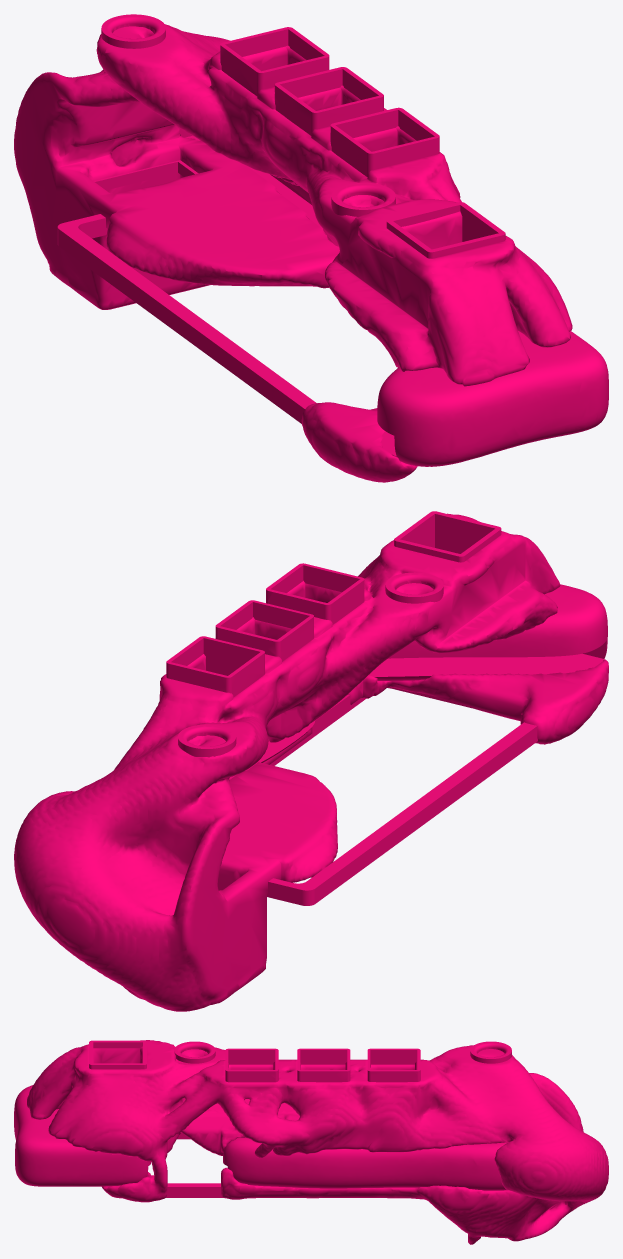
The model's file is Exoskeleton_R.web.glb.
3 renders of one model, top to bottom at view 1: azimuth 30°, elevation 25°; view 2: azimuth 150°, elevation 25°; view 3: azimuth 270°, elevation 25°, orthographic. The views are drawn at different scales.
Visible parts, largest first — view 1: Mesh: ON_Mesh.m_F[6805].vi[] has invalid vertex indices.; view 2: Mesh: ON_Mesh.m_F[6805].vi[] has invalid vertex indices.; view 3: Mesh: ON_Mesh.m_F[6805].vi[] has invalid vertex indices..
Boxes of the visible parts, x1,y1,x2,y2 form: Mesh: ON_Mesh.m_F[6805].vi[] has invalid vertex indices.: [14, 14, 608, 482]; Mesh: ON_Mesh.m_F[6805].vi[] has invalid vertex indices.: [14, 511, 608, 1011]; Mesh: ON_Mesh.m_F[6805].vi[] has invalid vertex indices.: [14, 1040, 608, 1244].
Size of the model in its own units: 0.0296 by 0.0284 by 0.0857.
